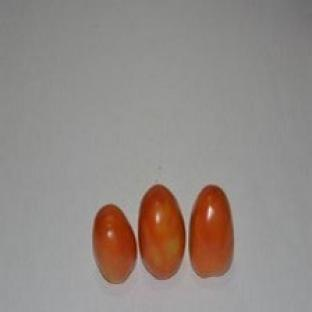Tomato: (138, 186, 185, 278), (190, 186, 233, 277), (92, 205, 136, 282)
